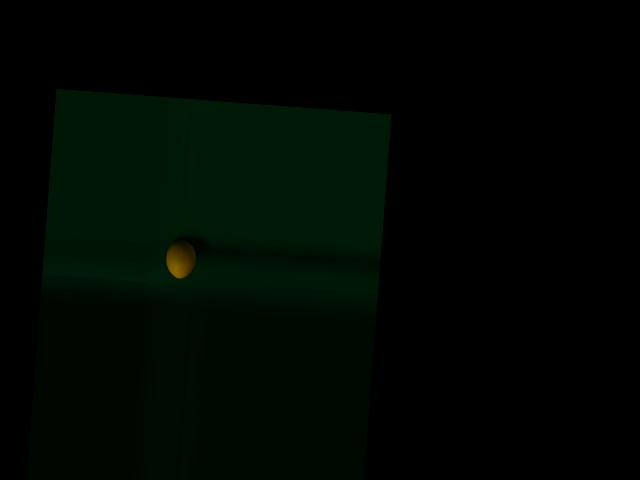egg: (163, 238, 196, 279)
